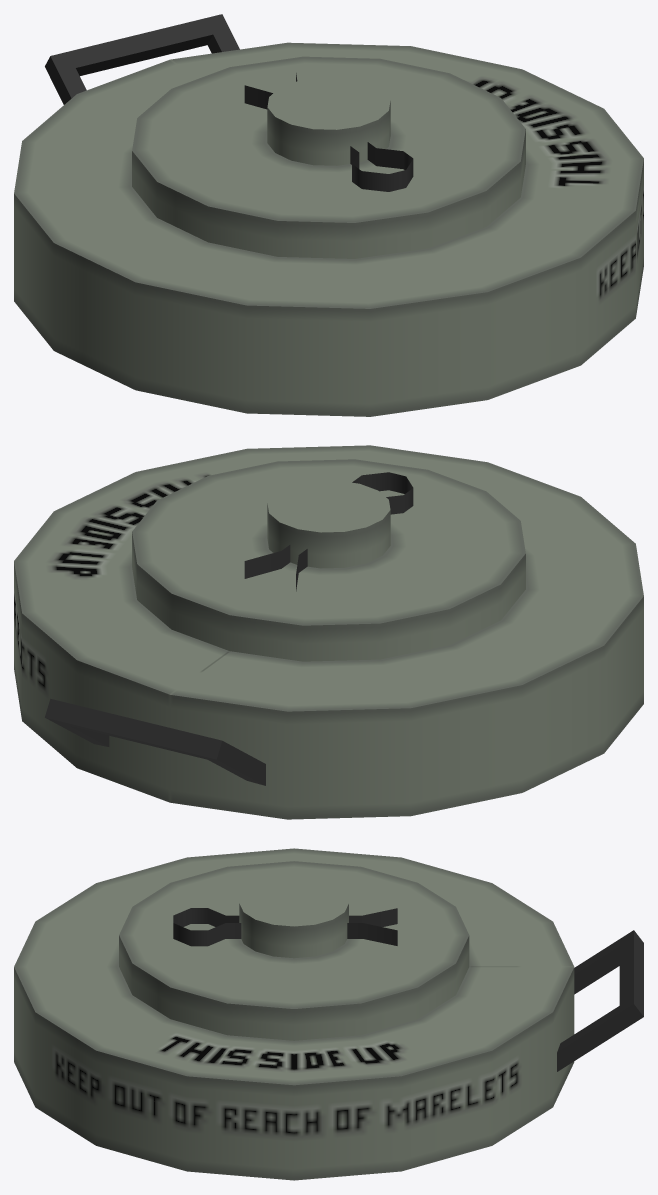
Rendered from marelet.obj.
3 renders of one model, top to bottom at view 1: azimuth 30°, elevation 25°; view 2: azimuth 150°, elevation 25°; view 3: azimuth 270°, elevation 25°, orthographic. The views are drawn at different scales.
Visible parts, largest first — view 1: Circle; view 2: Circle; view 3: Circle.
Boxes of the visible parts, box(x1,y1,x2,y2) form: Circle: box(14, 14, 643, 416); Circle: box(14, 445, 643, 819); Circle: box(14, 848, 643, 1180).
Bounding box in the file's own units: 0.5 × 0.1562 × 0.5621.
